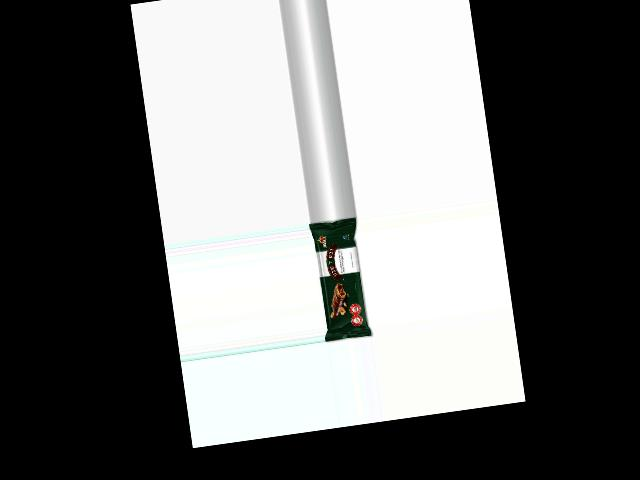chocolate: (308, 215, 374, 342)
